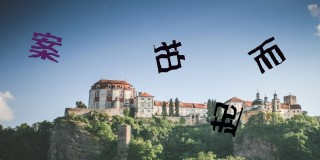拍: (152, 40, 185, 75)
案: (29, 31, 63, 64)
而: (248, 37, 287, 74)
起: (211, 101, 244, 137)
